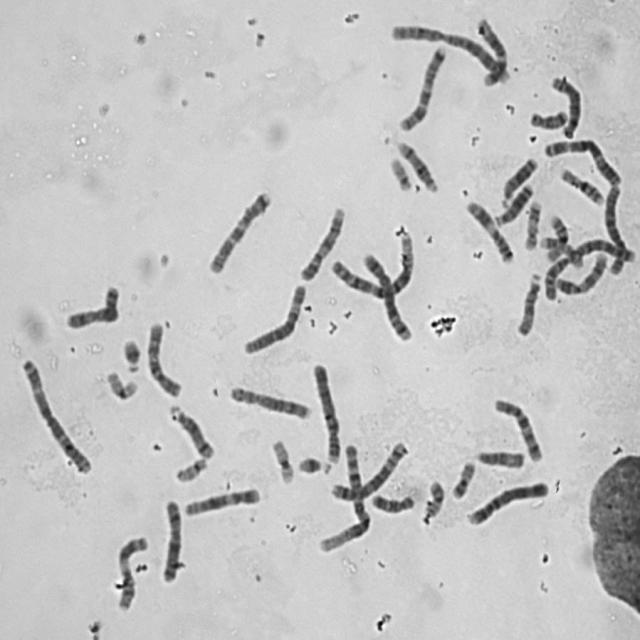A1: (313, 439, 374, 555), (327, 228, 418, 299)
A2: (385, 18, 512, 86), (540, 233, 638, 300)
A3: (16, 351, 95, 476), (540, 132, 624, 187)
B4: (462, 475, 552, 528), (308, 357, 342, 465)
B5: (326, 436, 410, 502), (358, 246, 415, 343)
C10: (490, 393, 545, 464), (141, 316, 184, 398)
C11: (462, 195, 516, 264), (111, 530, 150, 612)
C12: (179, 482, 263, 518), (472, 12, 511, 86)
C6: (238, 278, 308, 356), (600, 179, 627, 277)
C7: (202, 184, 274, 276), (394, 39, 448, 132)
C8: (224, 379, 313, 422), (546, 70, 585, 140)
C9: (296, 200, 348, 282), (545, 246, 610, 298)
D13: (496, 152, 539, 206), (490, 179, 536, 227)
D14: (164, 400, 217, 461), (391, 136, 439, 194)
D15: (513, 268, 543, 338), (472, 445, 526, 470)
E16: (554, 162, 606, 207), (541, 210, 571, 263)
E17: (535, 233, 586, 270), (520, 194, 544, 253)
E18: (366, 488, 416, 514), (526, 104, 570, 130)
F19: (266, 434, 296, 485), (101, 365, 140, 402)
F20: (448, 456, 478, 500), (421, 475, 446, 519)
G21: (118, 334, 143, 373), (294, 450, 328, 476)
G22: (384, 152, 414, 192), (171, 453, 209, 484)
X: (61, 279, 122, 331), (157, 493, 184, 585)
